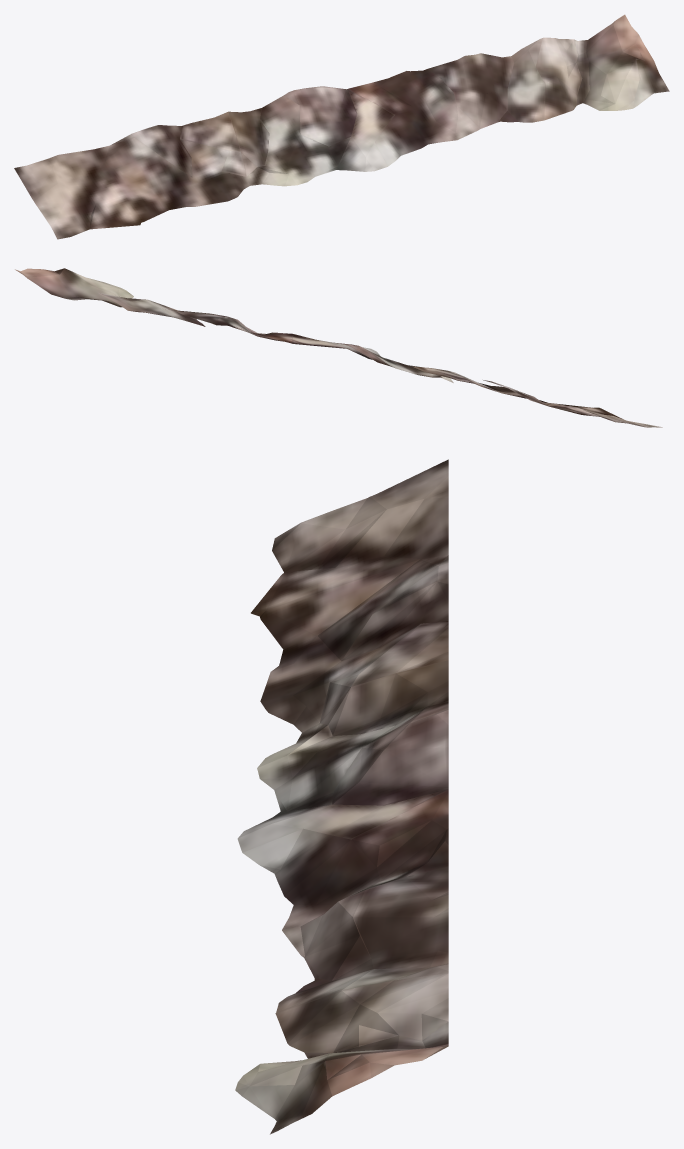
3 views of the same model, one above another, from view 1: azimuth 30°, elevation 25°; view 2: azimuth 150°, elevation 25°; view 3: azimuth 270°, elevation 25° (orthographic). The views are drawn at different scales.
Bounding box in the file's own units: 1.67 × 0.1286 × 0.2536.
Materials: 1 (1 with a texture image).
